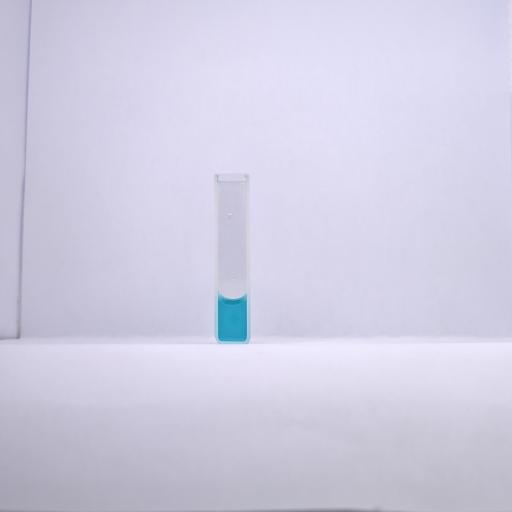cuvette: (211, 170, 254, 346)
liquid: (218, 297, 246, 342)
